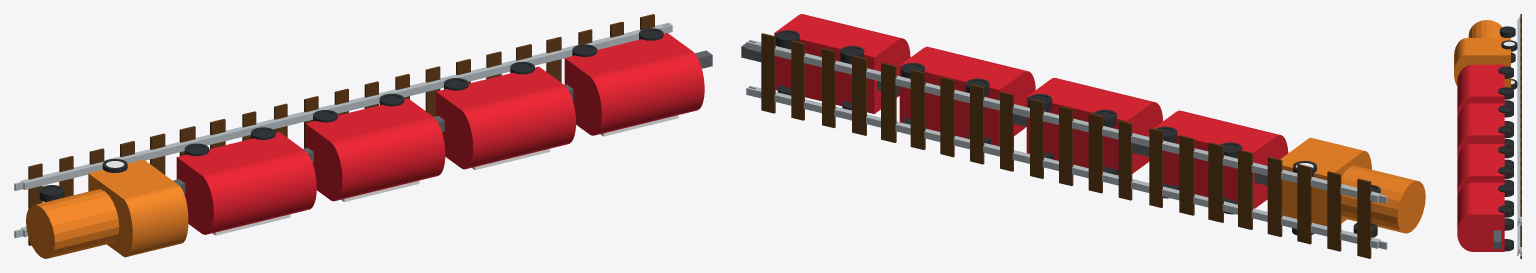
Rendered from tinker.obj.
3 views of the same model, side by side, from view 1: azimuth 30°, elevation 25°; view 2: azimuth 150°, elevation 25°; view 3: azimuth 270°, elevation 25° (orthographic). The views are drawn at different scales.
Parts seen in each view (by area): view 1: group_0_15277357, group_0_16089887, group_0_6306067, group_0_12568524, group_0_2829873, group_0_16448250, group_0_6383466; view 2: group_0_6306067, group_0_15277357, group_0_12568524, group_0_16089887, group_0_2829873, group_0_6383466; view 3: group_0_15277357, group_0_2829873, group_0_16089887, group_0_12568524, group_0_6306067, group_0_6383466, group_0_16448250.
Part boxes in pixels (x1,y1,x2,y2): group_0_15277357: (176,33,704,234); group_0_16089887: (26,159,188,258); group_0_6306067: (28,14,654,245); group_0_12568524: (14,22,672,238); group_0_2829873: (39,28,663,201); group_0_16448250: (106,115,678,235); group_0_6383466: (173,50,712,194); group_0_6306067: (761,33,1371,258); group_0_15277357: (774,14,1288,208); group_0_12568524: (746,39,1387,249); group_0_16089887: (1280,137,1425,233); group_0_2829873: (775,30,1380,237); group_0_6383466: (741,43,1267,185); group_0_15277357: (1457,64,1504,251); group_0_2829873: (1498,26,1517,251); group_0_16089887: (1454,20,1510,87); group_0_12568524: (1517,17,1521,255); group_0_6306067: (1520,14,1521,258); group_0_6383466: (1493,230,1501,248); group_0_16448250: (1503,41,1514,84).
Size of the model in its own units: 158 by 17.5 by 21.5.
